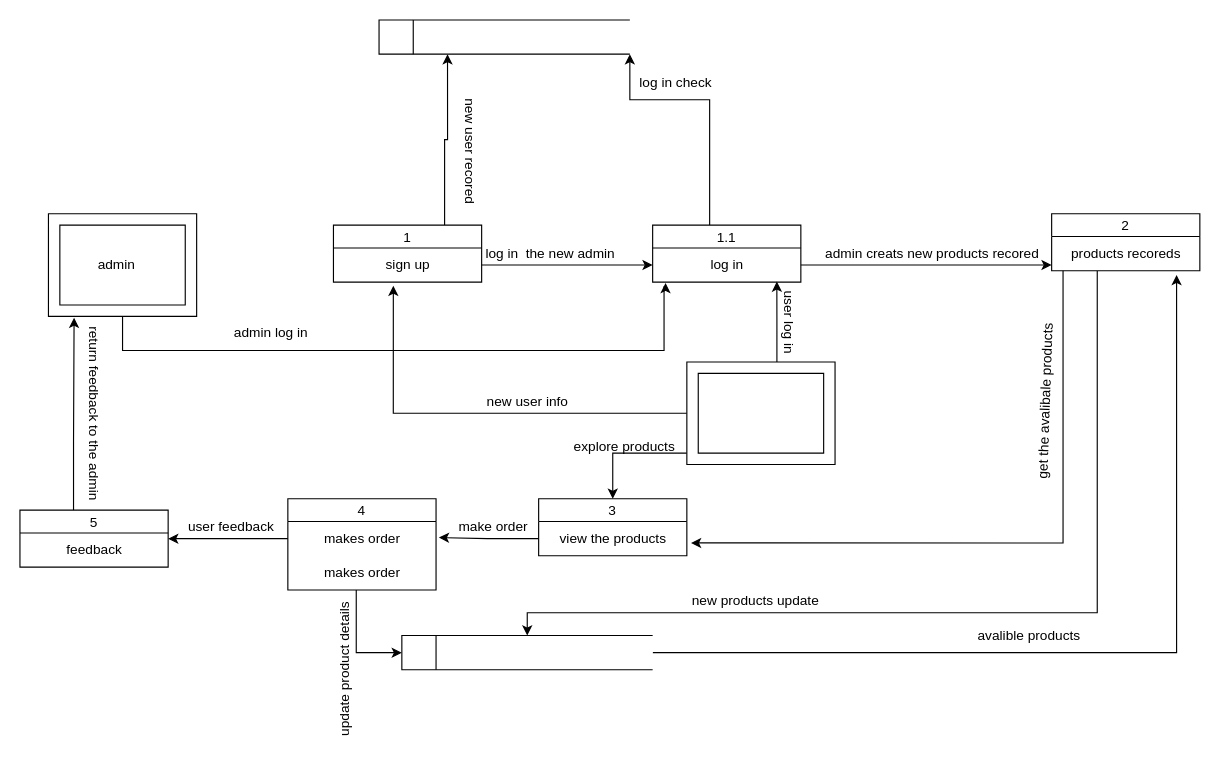
The diagram is 1220 pixels wide and 770 high, and some of its shapes have lost their labels. Here are the shapes that lost their labels. From the top down, the box of each, then its label:
(378, 19, 630, 54): D1 admin and user info
(686, 361, 835, 465): user
(401, 634, 653, 670): D2 products
